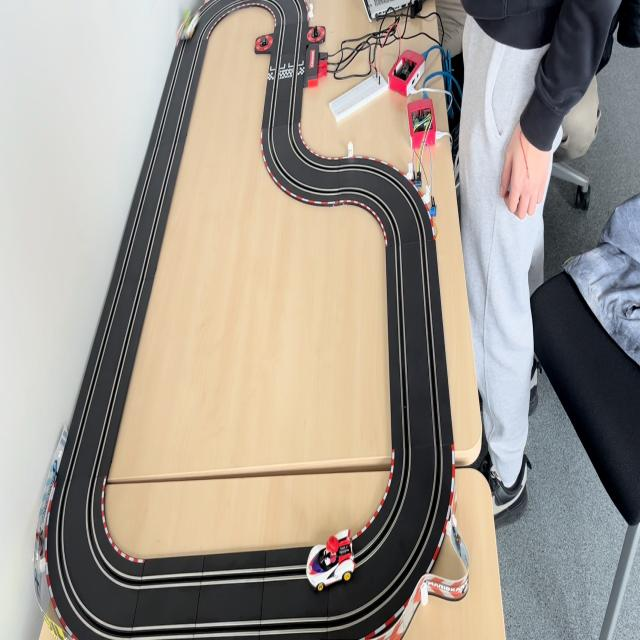yoshi: (177, 3, 204, 42)
